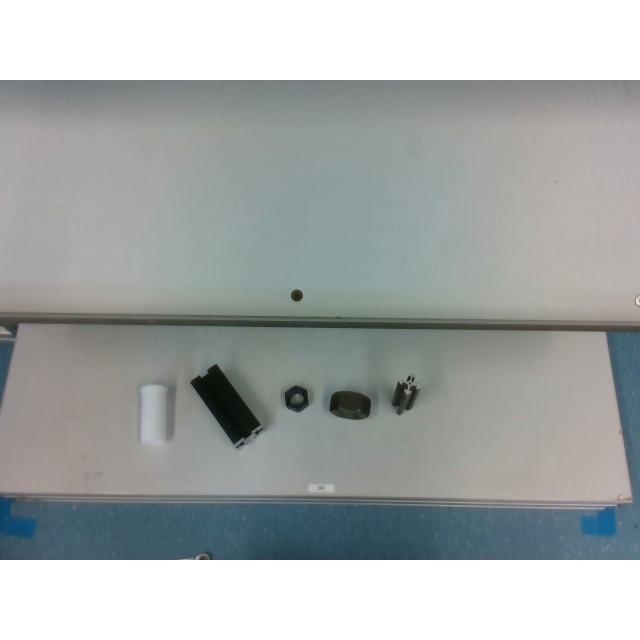F20_20_B: (392, 374, 421, 414)
M20: (284, 384, 308, 412)
M30: (329, 389, 371, 418)
S40_40_B: (190, 364, 262, 448)
Spacer: (139, 384, 173, 444)
